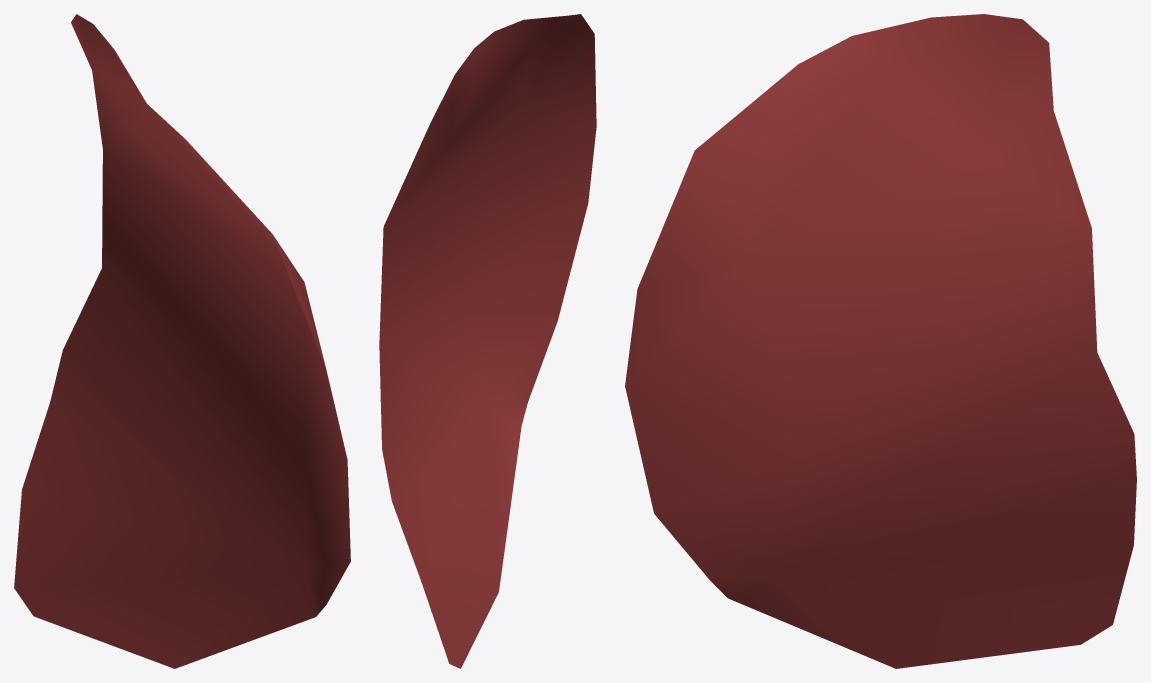
The model's file is tibialis-anterior-muscle-e1r.glb.
3 renders of one model, left to right at view 1: azimuth 30°, elevation 25°; view 2: azimuth 150°, elevation 25°; view 3: azimuth 270°, elevation 25°, orthographic. The views are drawn at different scales.
Visible parts, largest first — view 1: Tibialis anterior muscle.e1r; view 2: Tibialis anterior muscle.e1r; view 3: Tibialis anterior muscle.e1r.
Boxes of the visible parts, x1,y1,x2,y2 form: Tibialis anterior muscle.e1r: (14,14,350,668); Tibialis anterior muscle.e1r: (379,14,596,668); Tibialis anterior muscle.e1r: (625,14,1136,668).
Bounding box in the file's own units: 0.0027 × 0.0115 × 0.00835.
